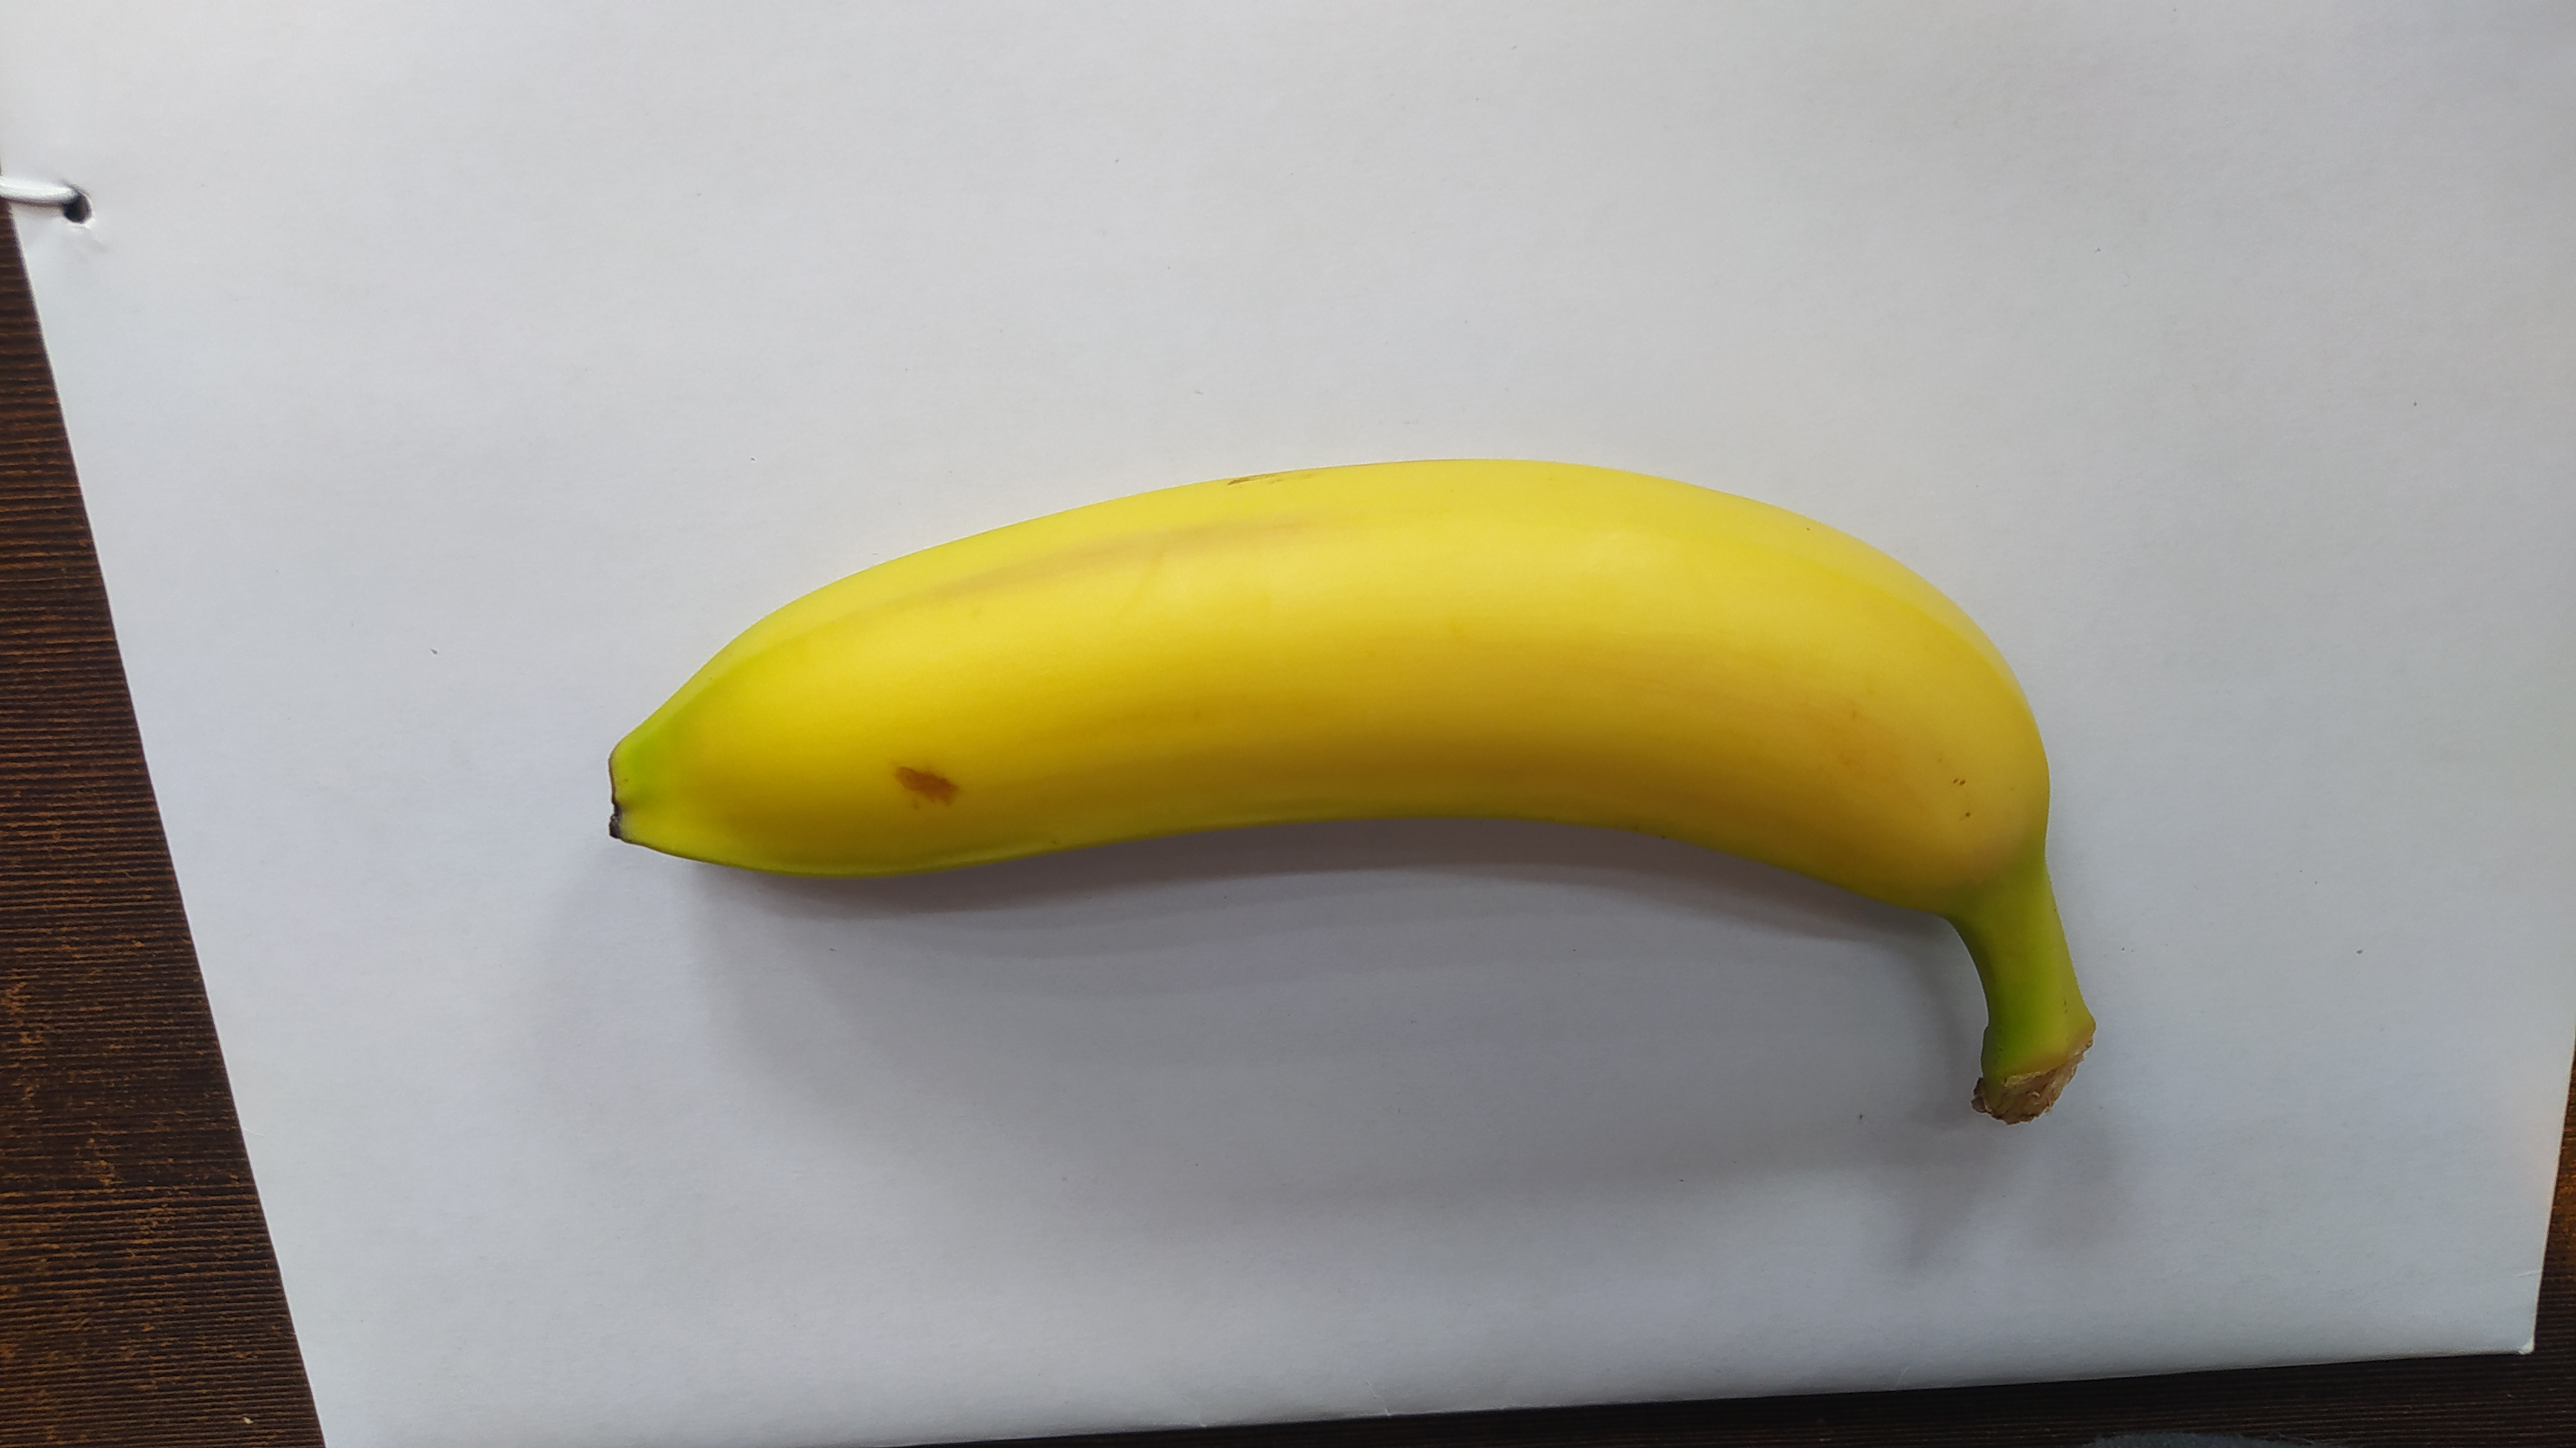banana: (602, 455, 2100, 1129)
